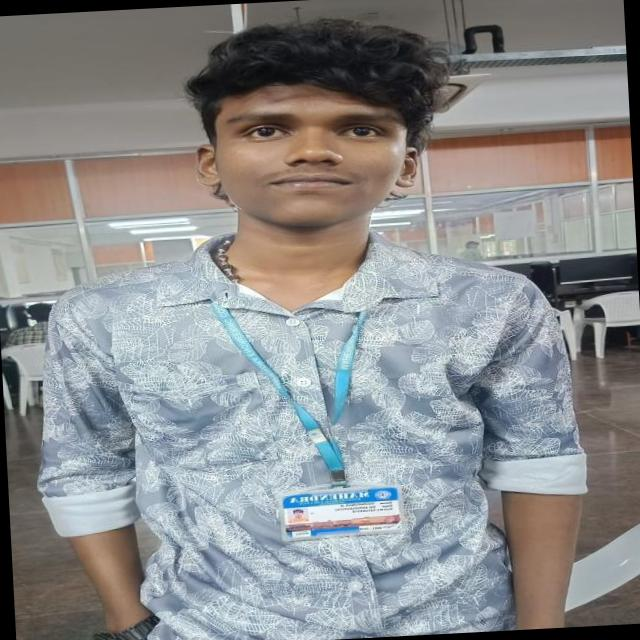id_card: (242, 256, 398, 542)
